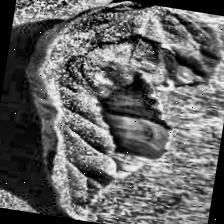disease: (8, 0, 223, 224)
